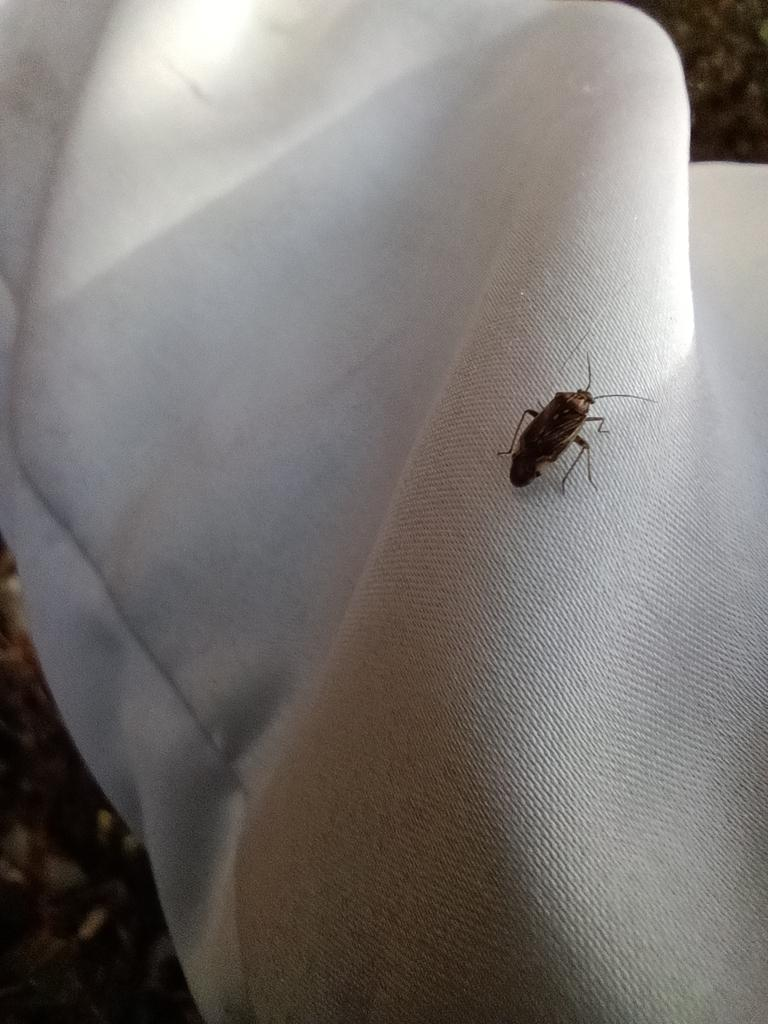plant_bugs: (457, 329, 667, 534)
